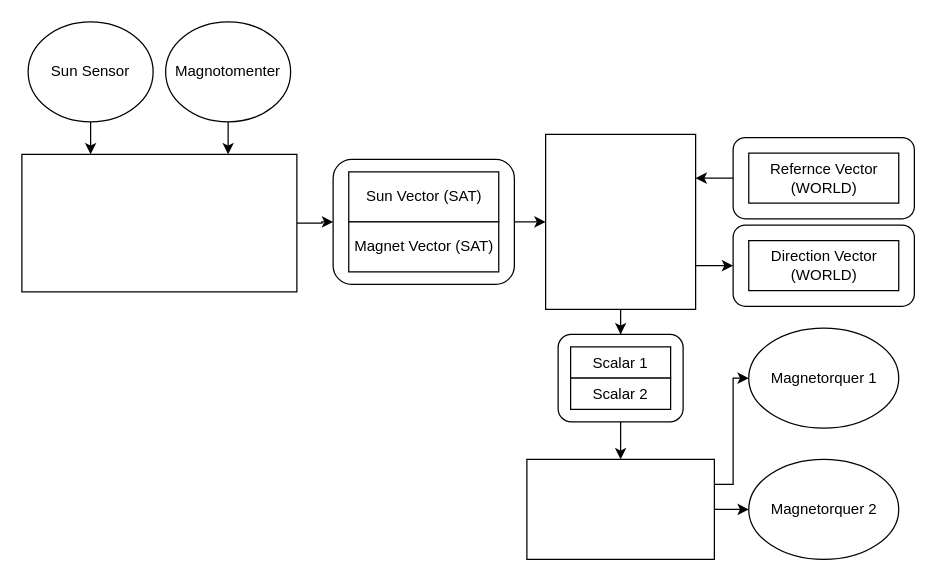
This 936x581 diagram has some shape labels left out. The shapes that lost their labels are listed below. From the top down, each one's centre as x and y in pixels, then its label:
point (159, 222): Meassurement Loop
point (620, 221): Control Loop
point (620, 508): Actuator Controller Loop
